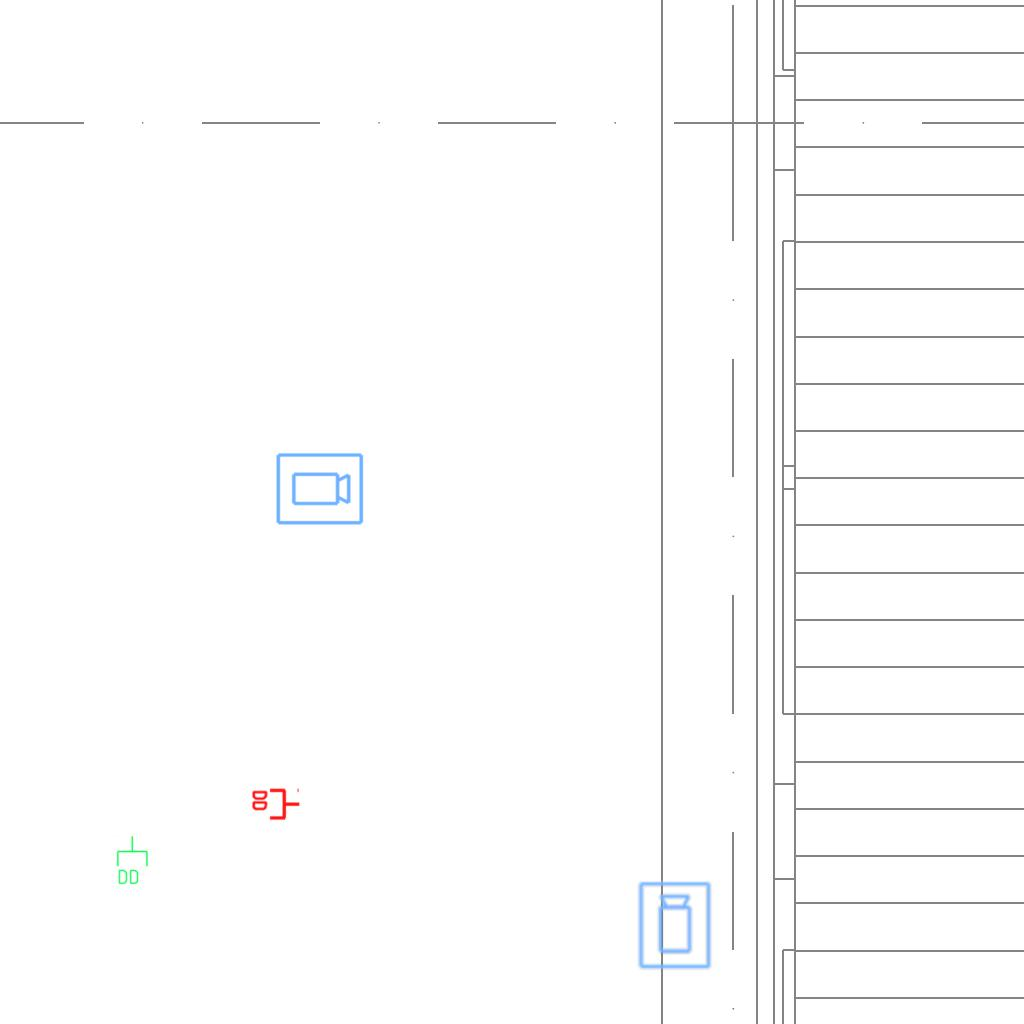Datenanschluss_zweifach: (115, 835, 149, 886), (250, 788, 301, 822)
KFO_Kamera_mit_Festobjektiv: (637, 880, 714, 971), (274, 451, 365, 528)
